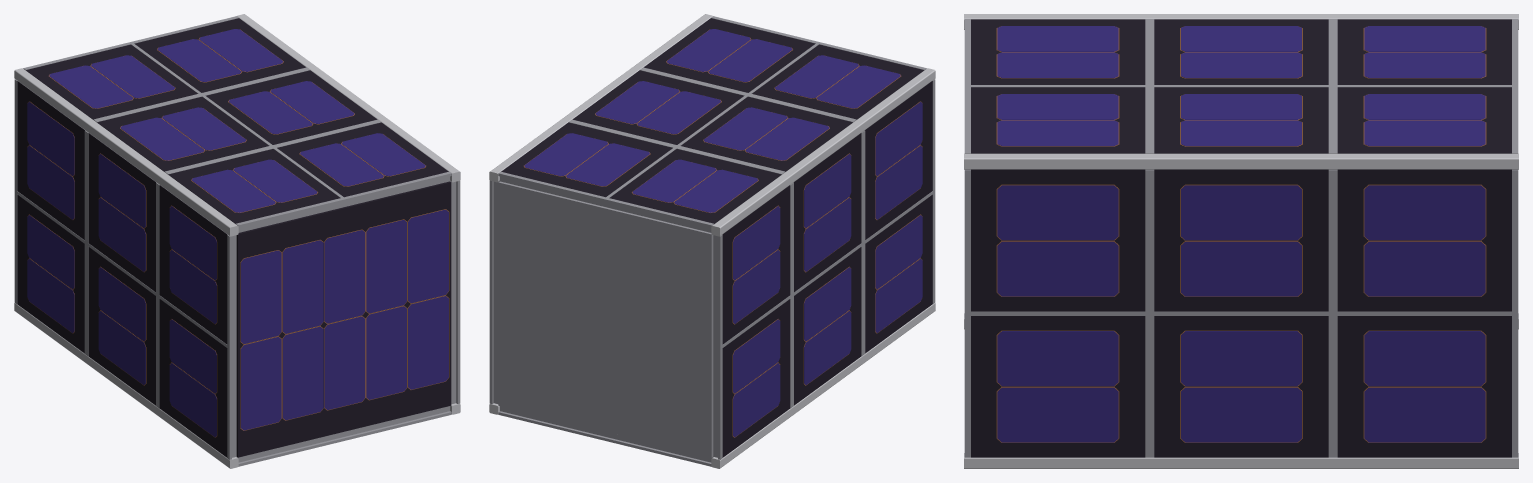
Rendered from CDS_12U_nasa_style.obj.
The picture shows the model from 3 angles, left to right: view 1: azimuth 30°, elevation 25°; view 2: azimuth 150°, elevation 25°; view 3: azimuth 270°, elevation 25°; orthographic projection. The views are drawn at different scales.
Visible parts, largest first — view 1: solar_panel_pZ_cells, solar_panel_pZ_substrate, structure_body, structure_band_mX, structure_band_pY, solar_panel_mX_z1_x1_cells, solar_panel_mX_z1_x2_cells, solar_panel_mX_z2_x1_cells, solar_panel_mX_z2_x2_cells, solar_panel_mX_z3_x2_cells, solar_panel_mX_z3_x1_cells, solar_panel_pY_z1_x2_cells (+23 smaller); view 2: structure_endplate_mZ, structure_band_mX, structure_body, structure_band_pY, solar_panel_mX_z3_x1_cells, solar_panel_mX_z3_x2_cells, solar_panel_mX_z1_x2_cells, solar_panel_mX_z2_x1_cells, solar_panel_mX_z2_x2_cells, solar_panel_mX_z1_x1_cells, solar_panel_pY_z1_x1_cells, solar_panel_pY_z3_x2_cells (+21 smaller); view 3: solar_panel_pX_z1_x2_cells, solar_panel_pX_z3_x2_cells, solar_panel_pX_z1_x1_cells, solar_panel_pX_z3_x1_cells, solar_panel_pX_z2_x1_cells, solar_panel_pX_z2_x2_cells, structure_band_pX, solar_panel_pX_z2_x2_substrate, solar_panel_pX_z1_x2_substrate, solar_panel_pX_z3_x2_substrate, solar_panel_pX_z2_x1_substrate, solar_panel_pX_z1_x1_substrate (+23 smaller).
Boxes of the visible parts, x1=… form: solar_panel_pZ_cells: x1=240, y1=209, x2=448, y2=430; solar_panel_pZ_substrate: x1=236, y1=181, x2=451, y2=457; structure_body: x1=232, y1=176, x2=456, y2=462; structure_band_mX: x1=14, y1=79, x2=231, y2=459; structure_band_pY: x1=23, y1=16, x2=451, y2=227; solar_panel_mX_z1_x1_cells: x1=27, y1=101, x2=74, y2=219; solar_panel_mX_z1_x2_cells: x1=27, y1=215, x2=74, y2=332; solar_panel_mX_z2_x1_cells: x1=98, y1=154, x2=145, y2=271; solar_panel_mX_z2_x2_cells: x1=98, y1=267, x2=145, y2=384; solar_panel_mX_z3_x2_cells: x1=169, y1=319, x2=216, y2=437; solar_panel_mX_z3_x1_cells: x1=169, y1=206, x2=216, y2=323; solar_panel_pY_z1_x2_cells: x1=49, y1=55, x2=174, y2=108; structure_endplate_mZ: x1=498, y1=181, x2=713, y2=457; structure_band_mX: x1=718, y1=79, x2=935, y2=459; structure_body: x1=493, y1=176, x2=717, y2=462; structure_band_pY: x1=498, y1=16, x2=926, y2=227; solar_panel_mX_z3_x1_cells: x1=875, y1=101, x2=922, y2=219; solar_panel_mX_z3_x2_cells: x1=875, y1=215, x2=922, y2=332; solar_panel_mX_z1_x2_cells: x1=733, y1=319, x2=780, y2=437; solar_panel_mX_z2_x1_cells: x1=804, y1=154, x2=851, y2=271; solar_panel_mX_z2_x2_cells: x1=804, y1=267, x2=851, y2=384; solar_panel_mX_z1_x1_cells: x1=733, y1=206, x2=780, y2=323; solar_panel_pY_z1_x1_cells: x1=524, y1=133, x2=649, y2=186; solar_panel_pY_z3_x2_cells: x1=775, y1=55, x2=900, y2=108; solar_panel_pX_z1_x2_cells: x1=1364, y1=185, x2=1485, y2=296; solar_panel_pX_z3_x2_cells: x1=997, y1=185, x2=1118, y2=296; solar_panel_pX_z1_x1_cells: x1=1364, y1=331, x2=1485, y2=442; solar_panel_pX_z3_x1_cells: x1=997, y1=331, x2=1118, y2=442; solar_panel_pX_z2_x1_cells: x1=1181, y1=331, x2=1301, y2=442; solar_panel_pX_z2_x2_cells: x1=1181, y1=185, x2=1301, y2=296; structure_band_pX: x1=964, y1=169, x2=1518, y2=457; solar_panel_pX_z2_x2_substrate: x1=1154, y1=169, x2=1328, y2=311; solar_panel_pX_z1_x2_substrate: x1=1337, y1=169, x2=1511, y2=311; solar_panel_pX_z3_x2_substrate: x1=971, y1=169, x2=1145, y2=311; solar_panel_pX_z2_x1_substrate: x1=1154, y1=316, x2=1328, y2=457; solar_panel_pX_z1_x1_substrate: x1=1337, y1=316, x2=1511, y2=457.
Bounding box in the file's own units: 0.2263 × 0.2263 × 0.366.
